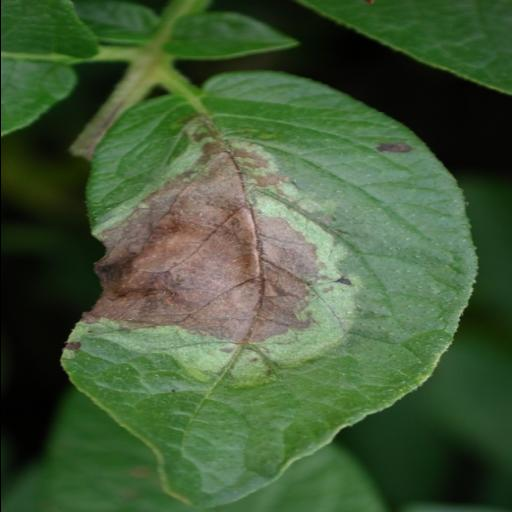Late Blight: (42, 65, 478, 511)
